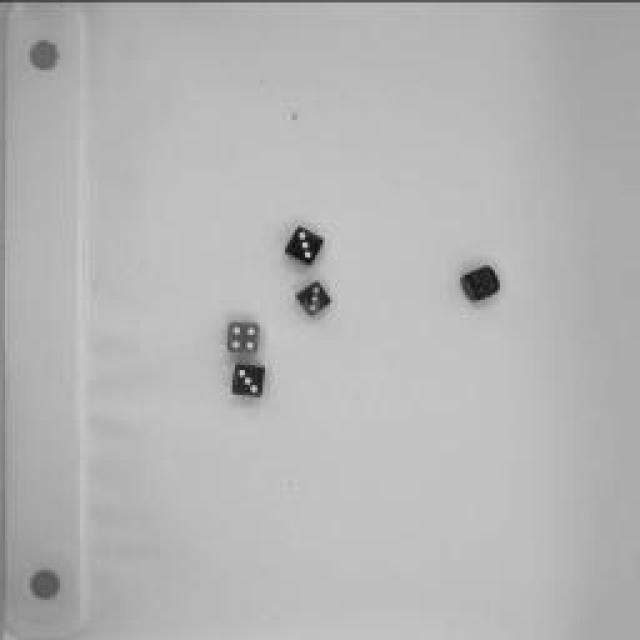dice_3: (280, 226, 322, 264), (295, 281, 330, 319), (230, 360, 268, 395)
dice_4: (461, 262, 499, 308), (222, 316, 262, 354)
